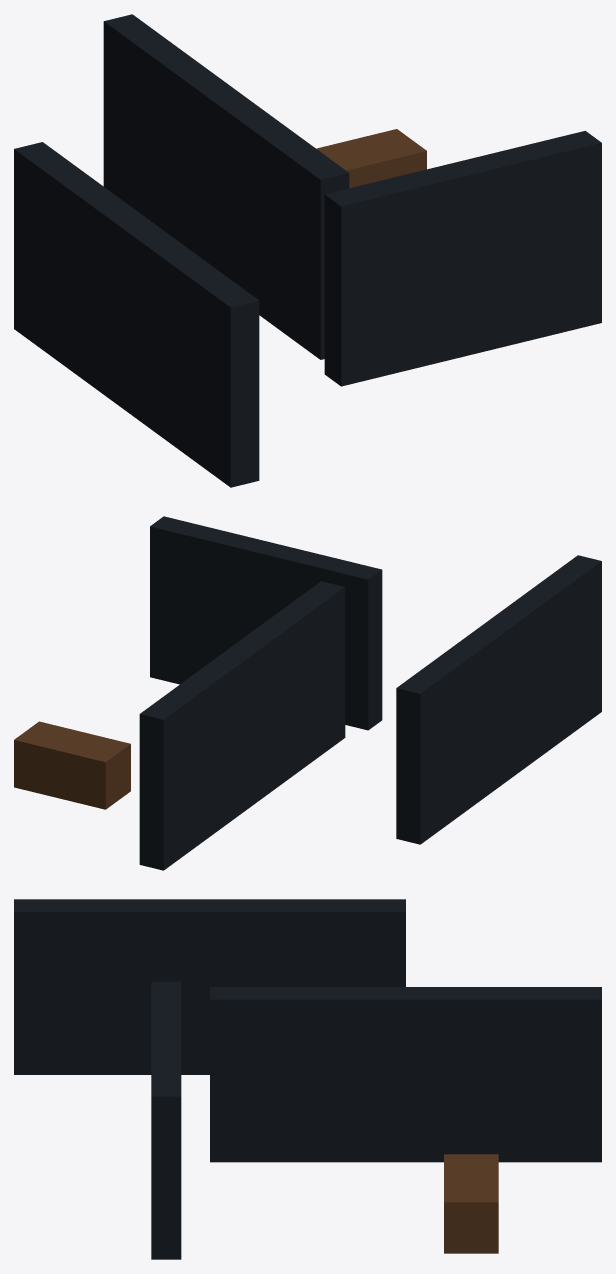
The model's file is module.close_quarters_maze.glb.
3 views of the same model, one above another, from view 1: azimuth 30°, elevation 25°; view 2: azimuth 150°, elevation 25°; view 3: azimuth 270°, elevation 25° (orthographic). The views are drawn at different scales.
Parts seen in each view (by area): view 1: maze_wall_c, maze_wall_a, maze_wall_b, low_crate; view 2: maze_wall_b, maze_wall_a, maze_wall_c, low_crate; view 3: maze_wall_b, maze_wall_a, maze_wall_c, low_crate.
Boxes of the visible parts, <box> form: maze_wall_c: <box>324,130,601,386</box>; maze_wall_a: <box>14,142,259,487</box>; maze_wall_b: <box>103,14,349,359</box>; low_crate: <box>316,129,426,188</box>; maze_wall_b: <box>139,581,345,870</box>; maze_wall_a: <box>396,555,601,844</box>; maze_wall_c: <box>150,516,382,730</box>; low_crate: <box>14,721,130,809</box>; maze_wall_b: <box>210,987,601,1162</box>; maze_wall_a: <box>14,899,405,1074</box>; maze_wall_c: <box>151,981,181,1259</box>; low_crate: <box>444,1154,498,1253</box>.
Bounding box in the file's own units: 8.58 × 3.3 × 10.8.
